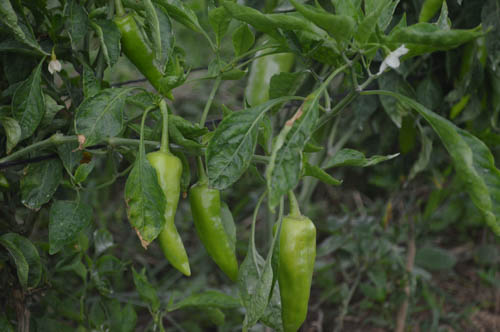ChiliPepper: (142, 152, 191, 275), (272, 215, 312, 332), (186, 186, 237, 275), (112, 14, 170, 91), (243, 37, 298, 106)
